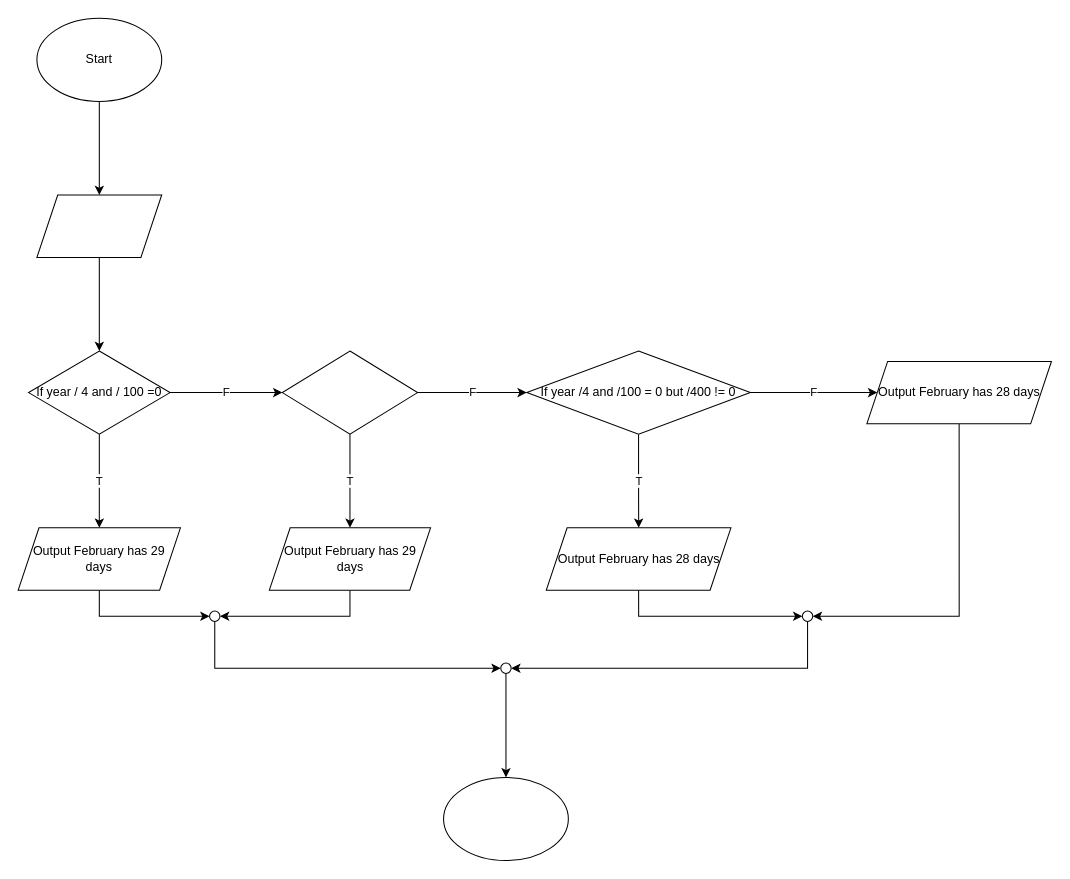
Image size: 1070x879. Some labels were removed from this diagram. The box of each missing label's shape, as (x1, y1, x2, y2) in pixels:
End: (443, 776, 568, 861)
If year /4 and /400 = 0: (281, 350, 418, 434)
Input year: (36, 194, 162, 257)
